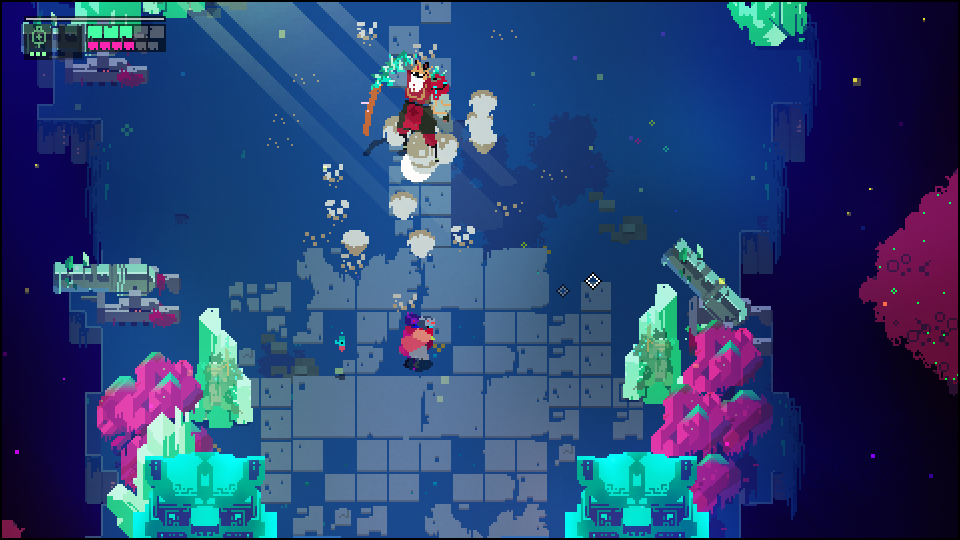hanged_man: (361, 52, 455, 165)
player: (407, 316, 442, 368)
